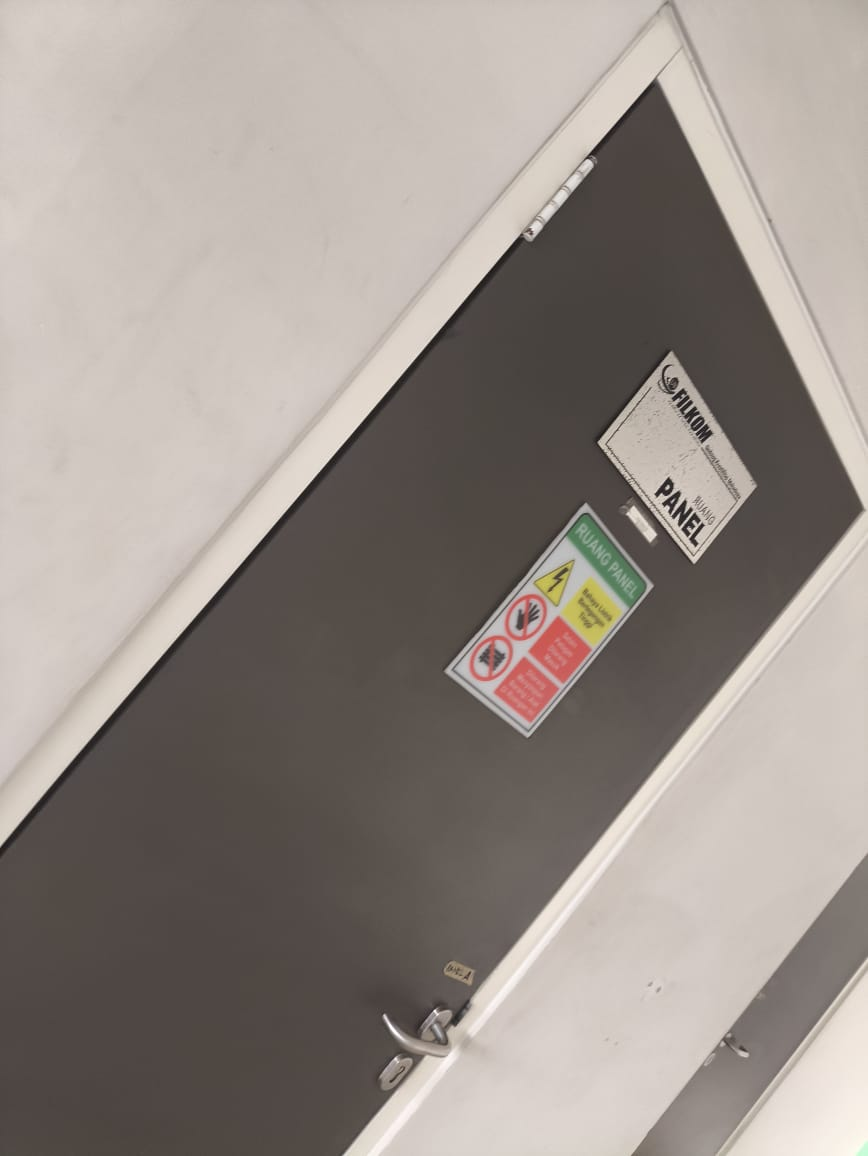ruang panel: (592, 350, 765, 570)
